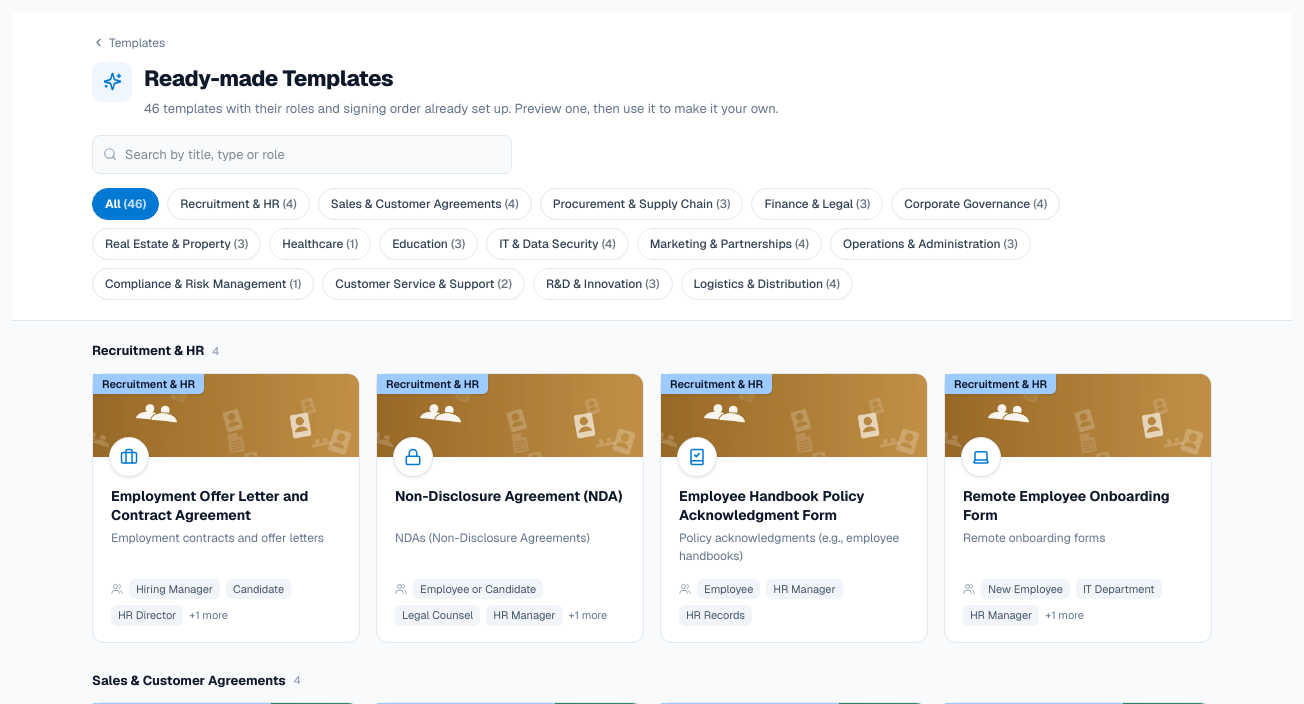
it: ready-made gallery › opens the preview from a card
The width and height of the screenshot is (1304, 704).
Click the button with aria-label "Preview ready-made template: Employment Offer Letter and Con": click(226, 508) x1=92 y1=373 x2=360 y2=642
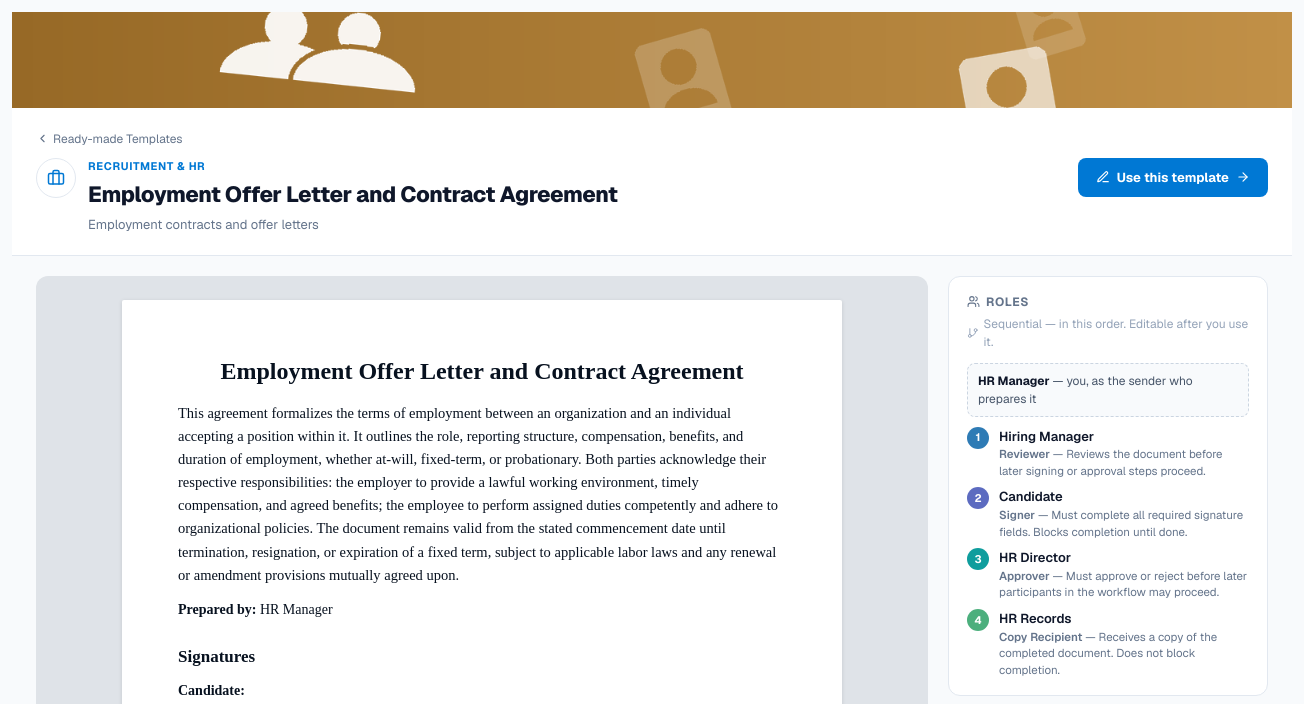
Check: the heading "Employment Offer Letter and Contract Agreement" below "Recruitment & HR" is shown, box x1=88 y1=178 x2=617 y2=211
